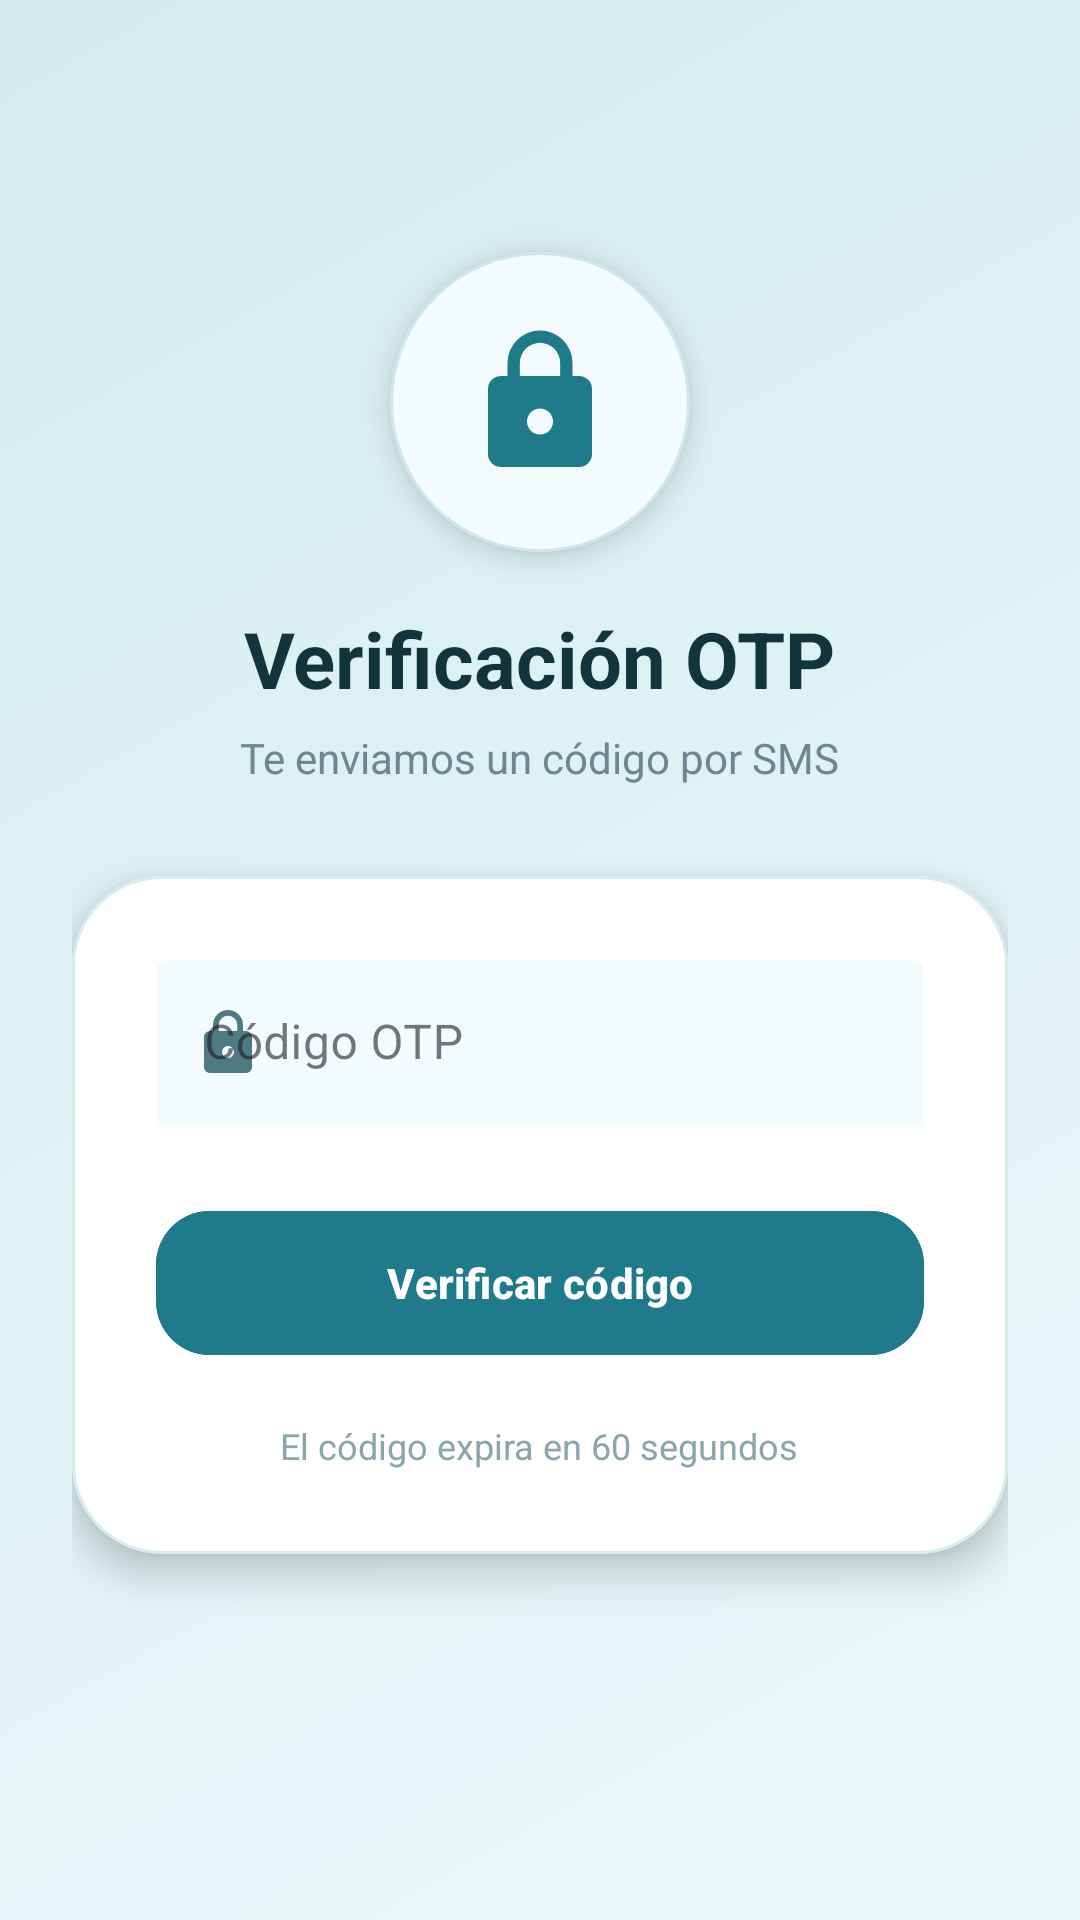

Icon bounding boxes for this 1080*1920 phone screenshot, format detection(x1, y1, x2, y2):
lock: detection(393, 255, 687, 552)
